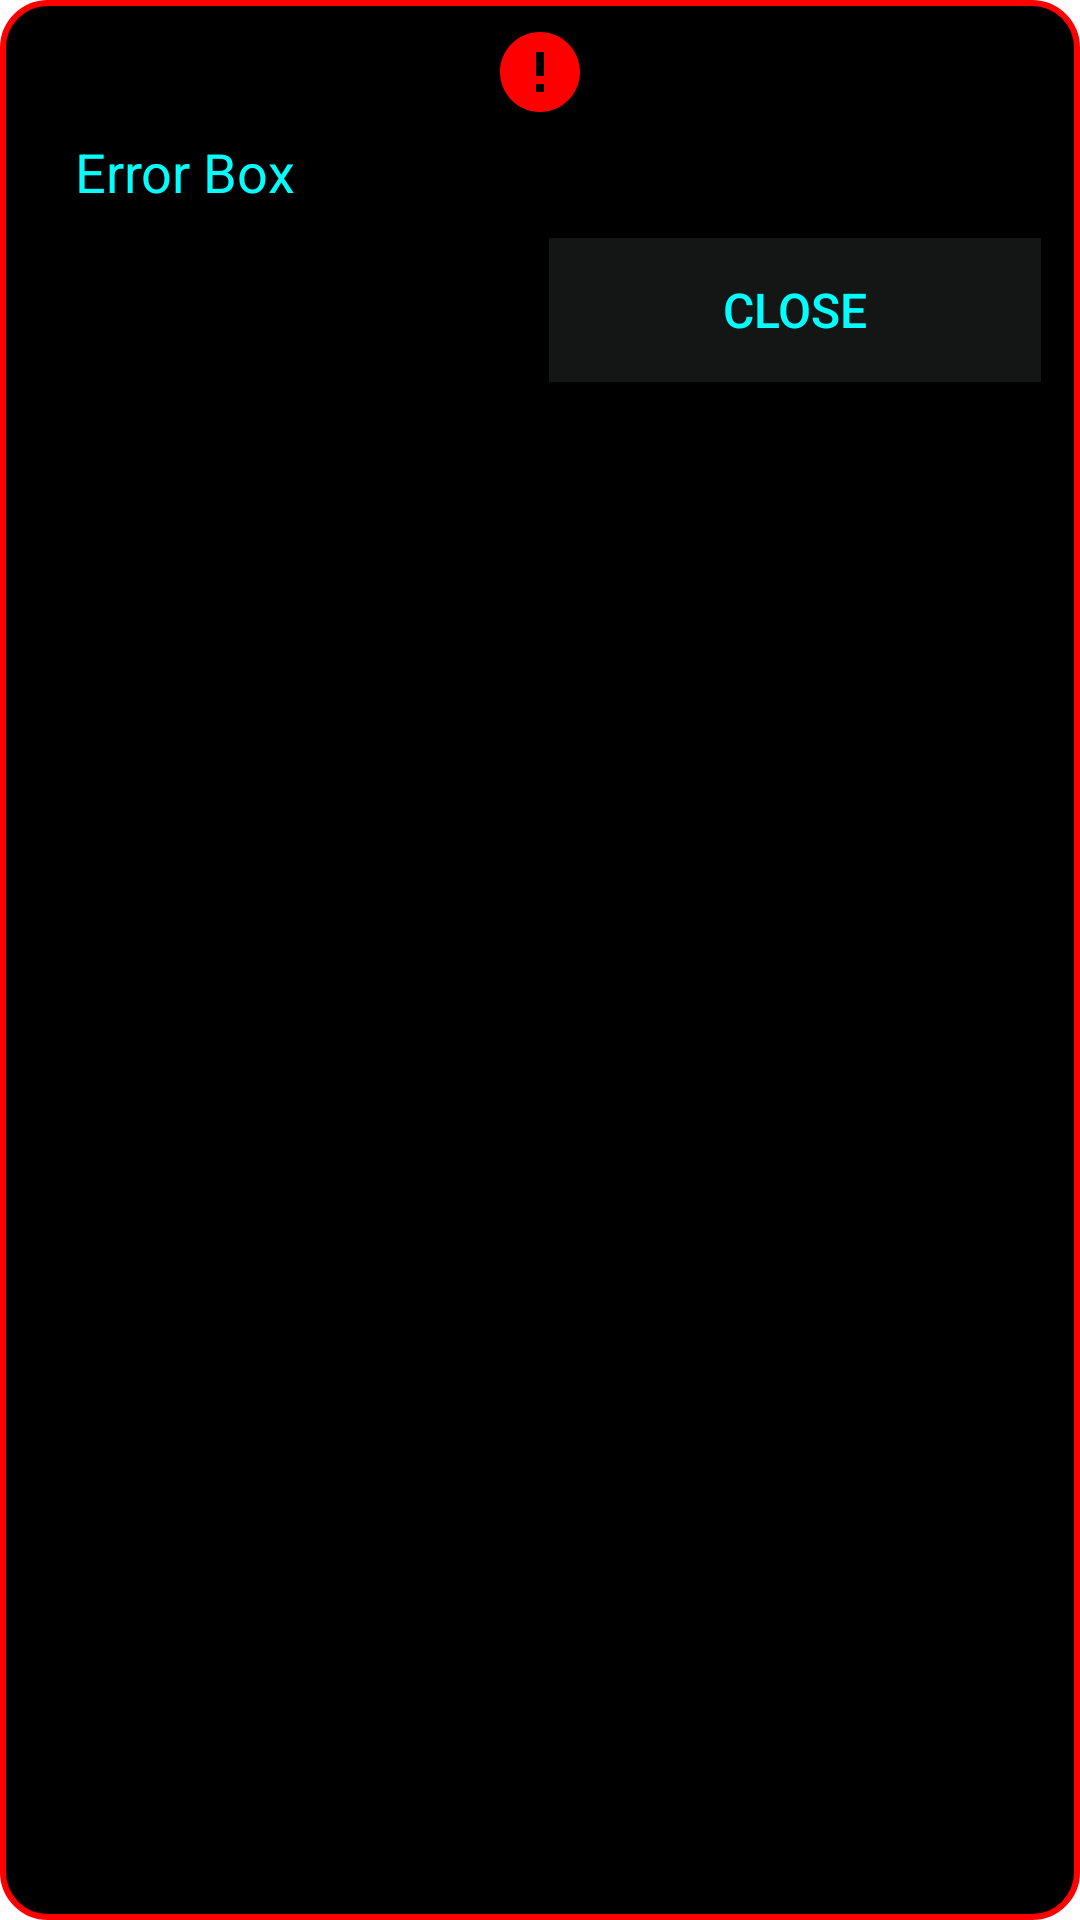

Where to tap for icons on this 1080*1920 app screen, as [x,y]:
pxutils error: [540,72]
